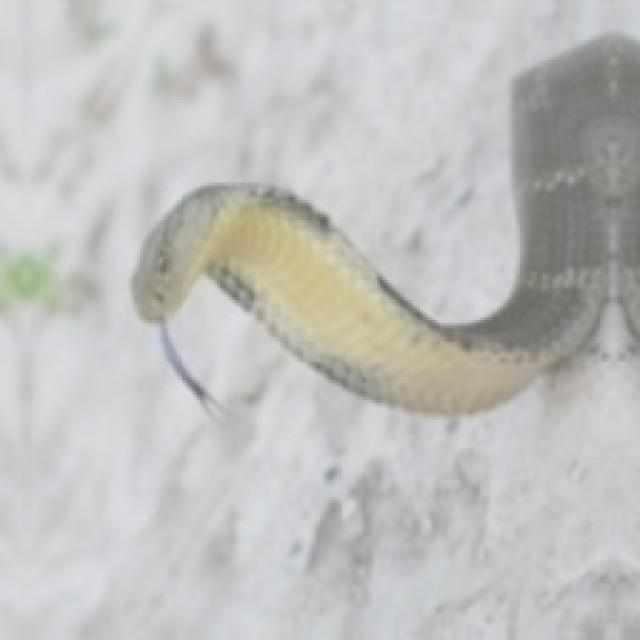king cobra: (131, 34, 637, 411)
